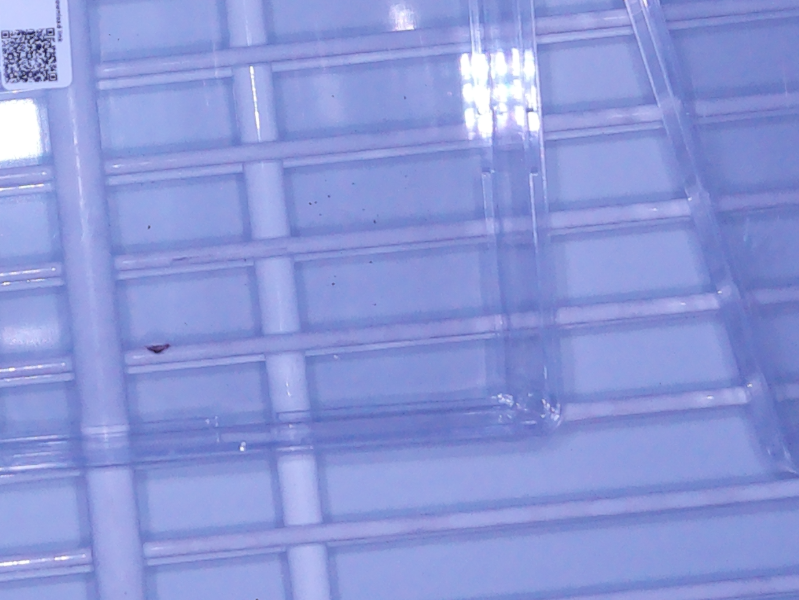plate: (1, 1, 573, 475), (621, 1, 799, 481)
